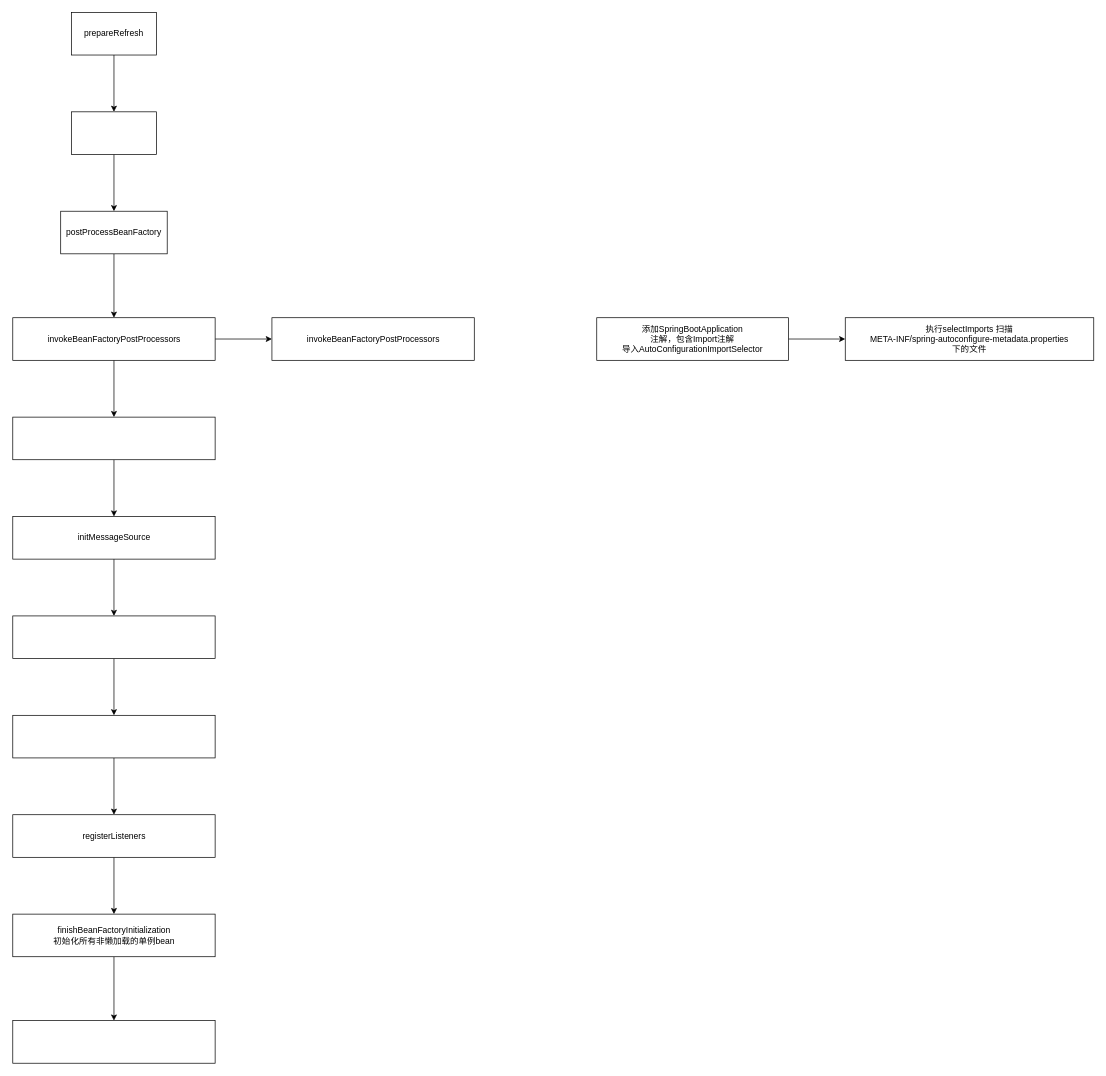
The diagram is 1106 pixels wide and 1076 high, and some of its shapes have lost their labels. The centre of each missing label's shape, as x and y in pixels:
"finishRefresh" goes at (113,1041).
"initApplicationEventMulticaster" goes at (113,637).
"onRefresh" goes at (113,736).
"prepareBeanFactory" goes at (114,132).
"registerBeanPostProcessors" goes at (113,438).
